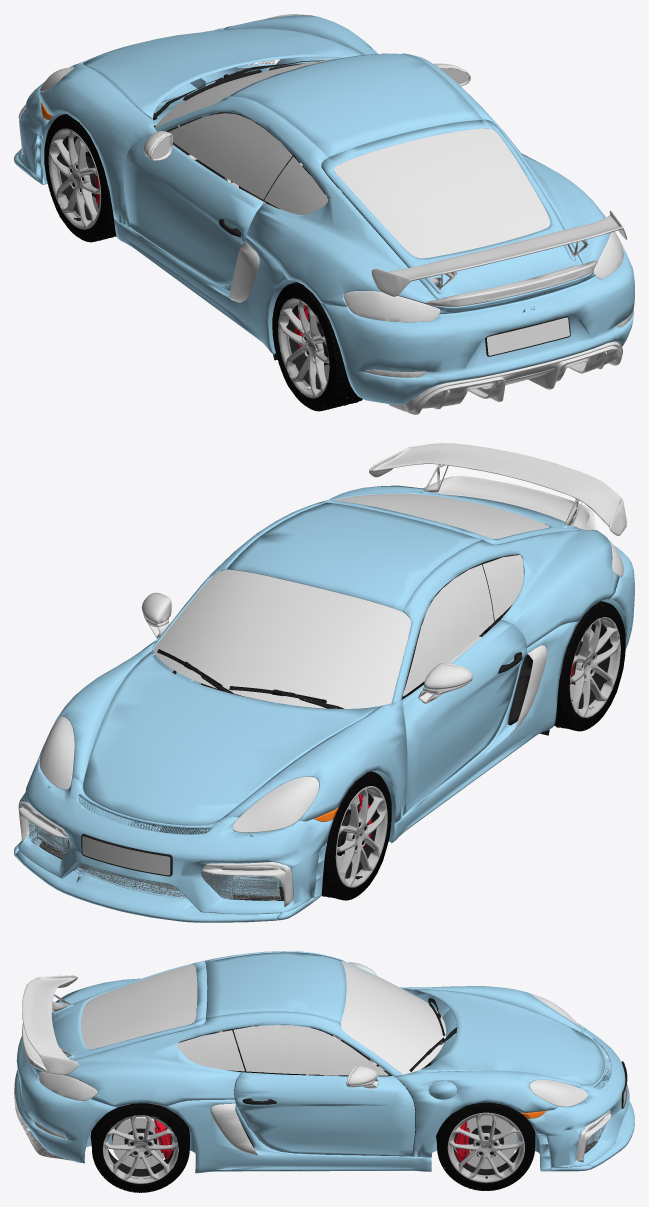
File: car.glb
The picture shows the model from 3 angles, top to bottom: view 1: azimuth 30°, elevation 25°; view 2: azimuth 150°, elevation 25°; view 3: azimuth 270°, elevation 25°; orthographic projection. The views are drawn at different scales.
Visible parts, largest first — view 1: Studio_Car277, Studio_Car66, Studio_Car187, Studio_Car276, wheel.Ft.L.001, Studio_Car02, Studio_Car33, wheel.Ft.L.002, Studio_Car252.001, Studio_Car90, Studio_Car236, Studio_Car314 (+1 smaller); view 2: Studio_Car277, Studio_Car66, Studio_Car187, Studio_Car187.002, Studio_Car252, Studio_Car02, Studio_Car33, wheel.Ft.L.001, wheel.Ft.L.002, Studio_Car252.001, Studio_Car236, Studio_Car90 (+2 smaller); view 3: Studio_Car277, Studio_Car66, Studio_Car187, wheel.Ft.L.004, wheel.Ft.L.003, Studio_Car10, Studio_Car28, Studio_Car187.002, Studio_Car276, Studio_Car174, Studio_Car341, Studio_Car236 (+4 smaller).
Part boxes in pixels (x1,y1,x2,y2): Studio_Car277: [14, 15, 634, 404]; Studio_Car66: [155, 58, 550, 258]; Studio_Car187: [18, 59, 627, 414]; Studio_Car276: [344, 231, 633, 377]; wheel.Ft.L.001: [272, 282, 362, 411]; Studio_Car02: [48, 128, 101, 229]; Studio_Car33: [278, 298, 329, 398]; wheel.Ft.L.002: [44, 114, 116, 242]; Studio_Car252.001: [487, 317, 569, 355]; Studio_Car90: [153, 60, 324, 119]; Studio_Car236: [179, 112, 428, 360]; Studio_Car314: [286, 294, 352, 391]; Studio_Car277: [14, 485, 634, 922]; Studio_Car66: [153, 493, 549, 708]; Studio_Car187: [18, 443, 626, 907]; Studio_Car187.002: [39, 716, 319, 832]; Studio_Car252: [23, 464, 620, 900]; Studio_Car02: [335, 786, 387, 887]; Studio_Car33: [569, 617, 620, 717]; wheel.Ft.L.001: [554, 601, 625, 731]; wheel.Ft.L.002: [321, 771, 391, 900]; Studio_Car252.001: [82, 836, 170, 875]; Studio_Car236: [172, 554, 549, 735]; Studio_Car90: [157, 649, 344, 708]; Studio_Car277: [15, 951, 634, 1173]; Studio_Car66: [80, 960, 446, 1075]; Studio_Car187: [14, 962, 610, 1162]; wheel.Ft.L.004: [90, 1103, 189, 1192]; wheel.Ft.L.003: [436, 1102, 535, 1190]; Studio_Car10: [447, 1112, 524, 1182]; Studio_Car28: [103, 1115, 178, 1183]; Studio_Car187.002: [529, 993, 587, 1106]; Studio_Car276: [33, 1071, 97, 1138]; Studio_Car174: [456, 1115, 516, 1169]; Studio_Car341: [112, 1117, 164, 1168]; Studio_Car236: [180, 997, 431, 1154].
Bounding box in the file's own units: 2 × 1.3 × 4.45.
